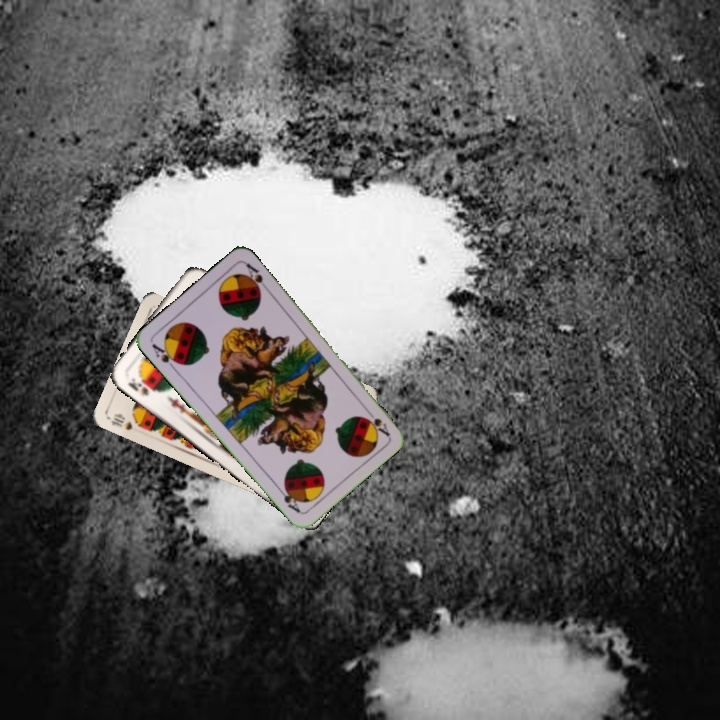S10: (105, 409, 136, 433)
SA: (147, 339, 183, 373), (361, 404, 392, 439)
SK: (124, 374, 157, 398)
